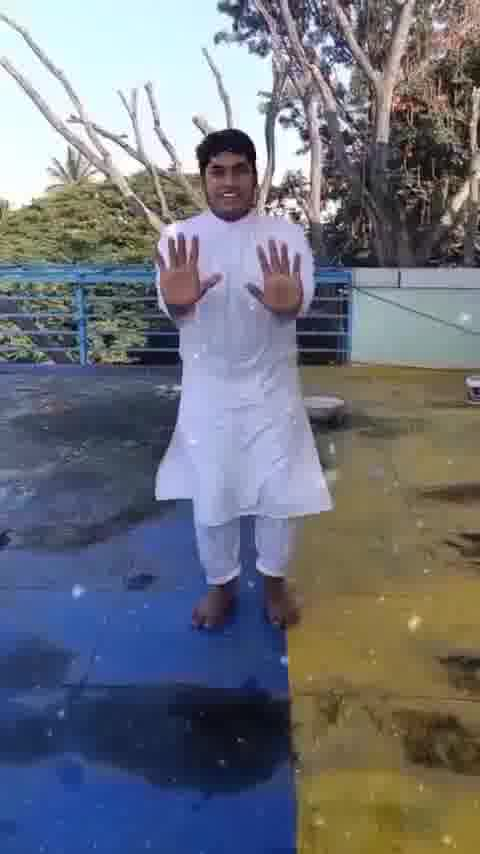duck: (148, 121, 350, 642)
